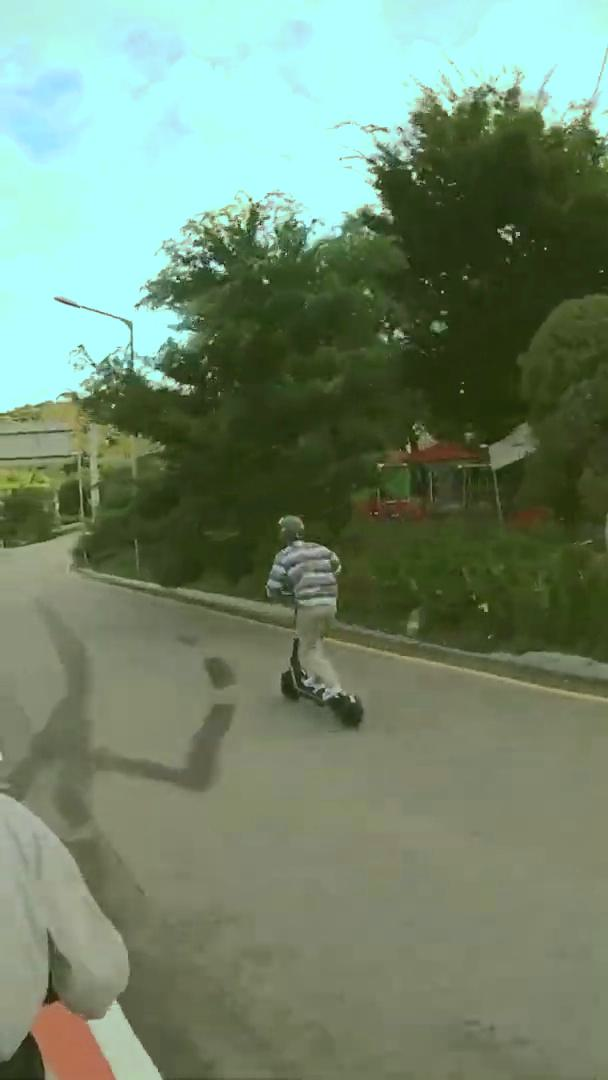helmet: (258, 510, 365, 731)
